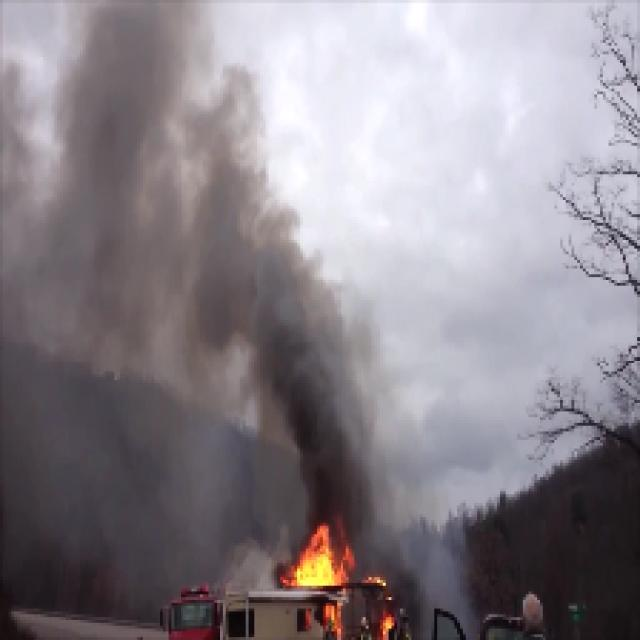fire: (281, 526, 345, 588)
smoke: (210, 234, 310, 394), (299, 388, 367, 526)
